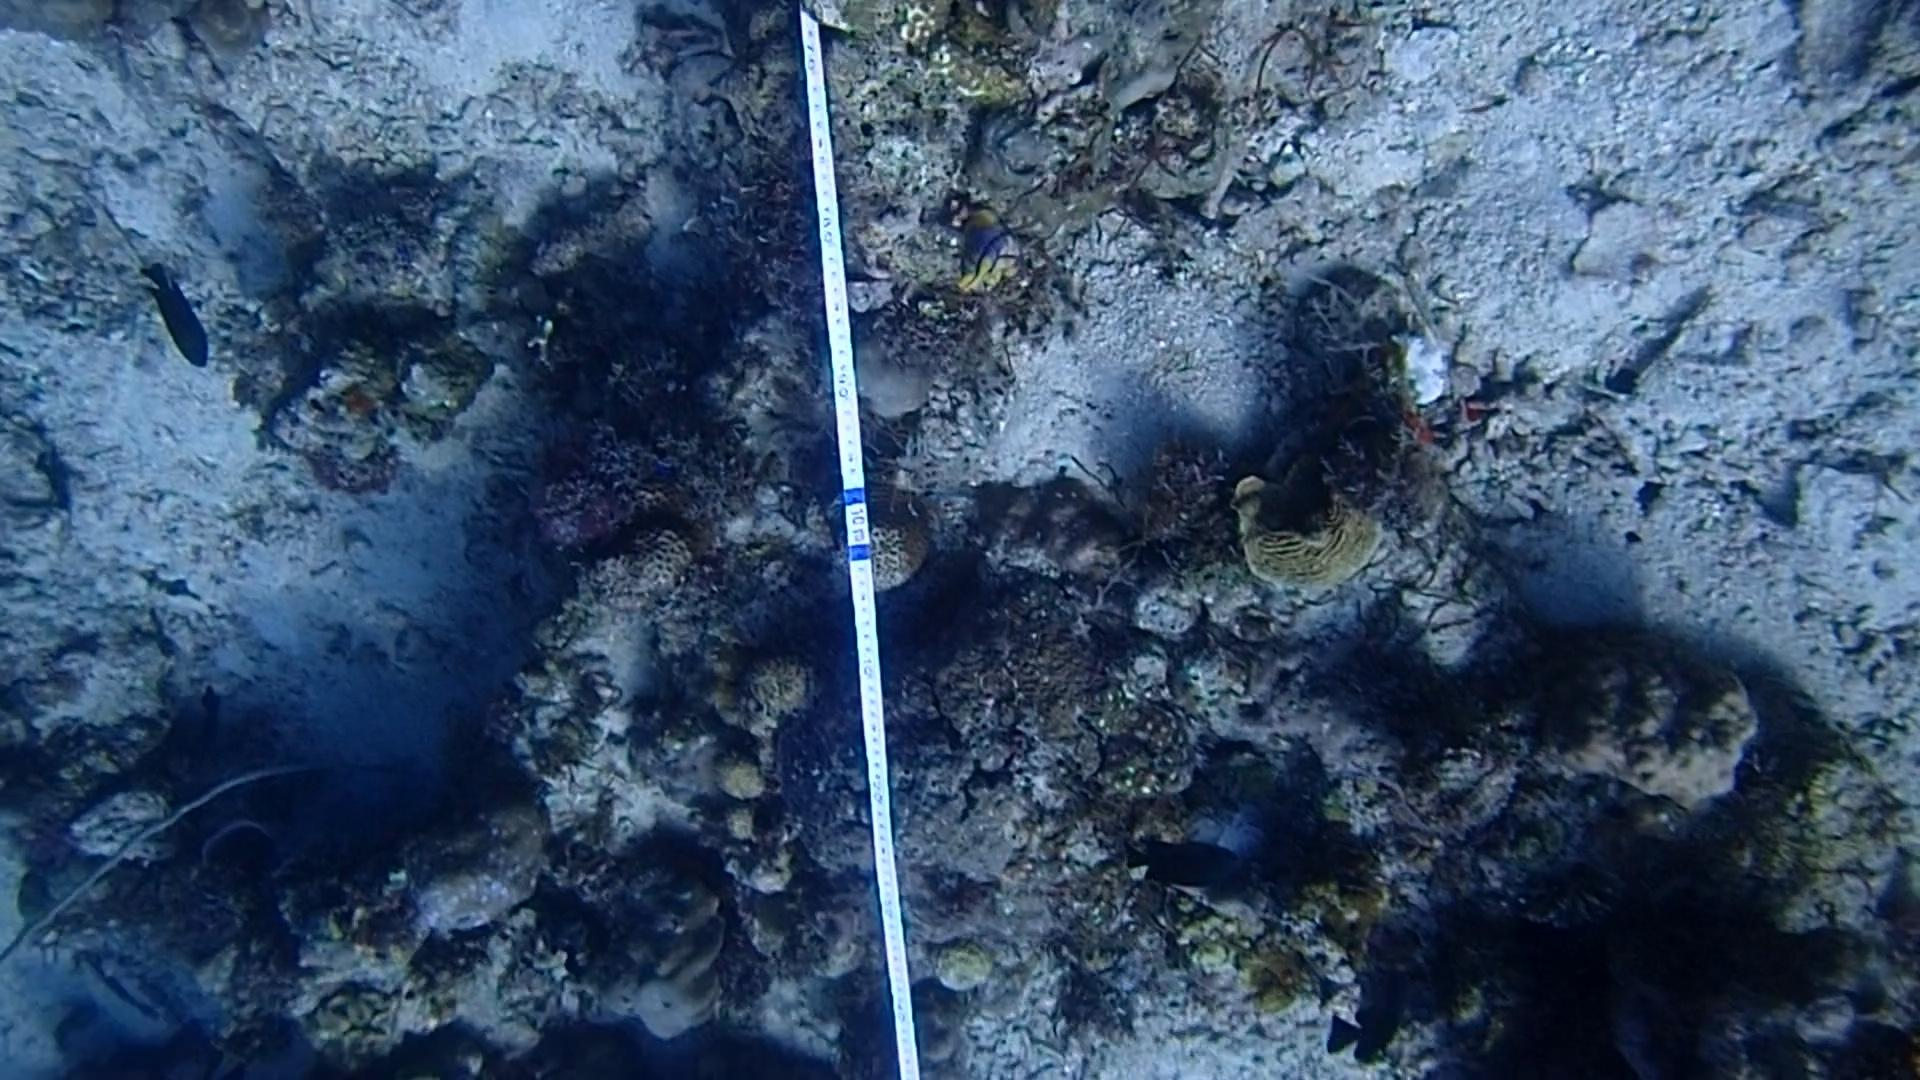Dark Fish: (136, 253, 225, 382), (1118, 827, 1250, 902), (1323, 984, 1423, 1072)
